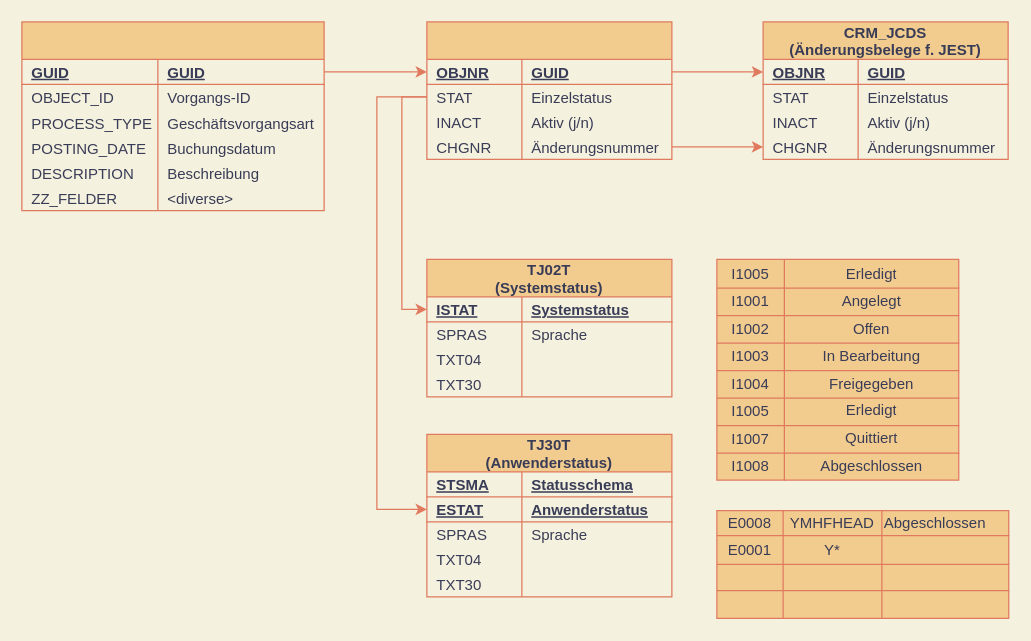
Some shapes in this 1031 by 641 pixel diagram are drawn without their labels. The shapes that lost their labels are listed below. From the top down, each one's box as (x1, y1, x2, y2) in pixels, then its label:
(426, 21, 672, 159): CRM_JEST (Status)
(21, 21, 324, 211): CRMD_ORDERADM_H (Geschäftsvorgang)
